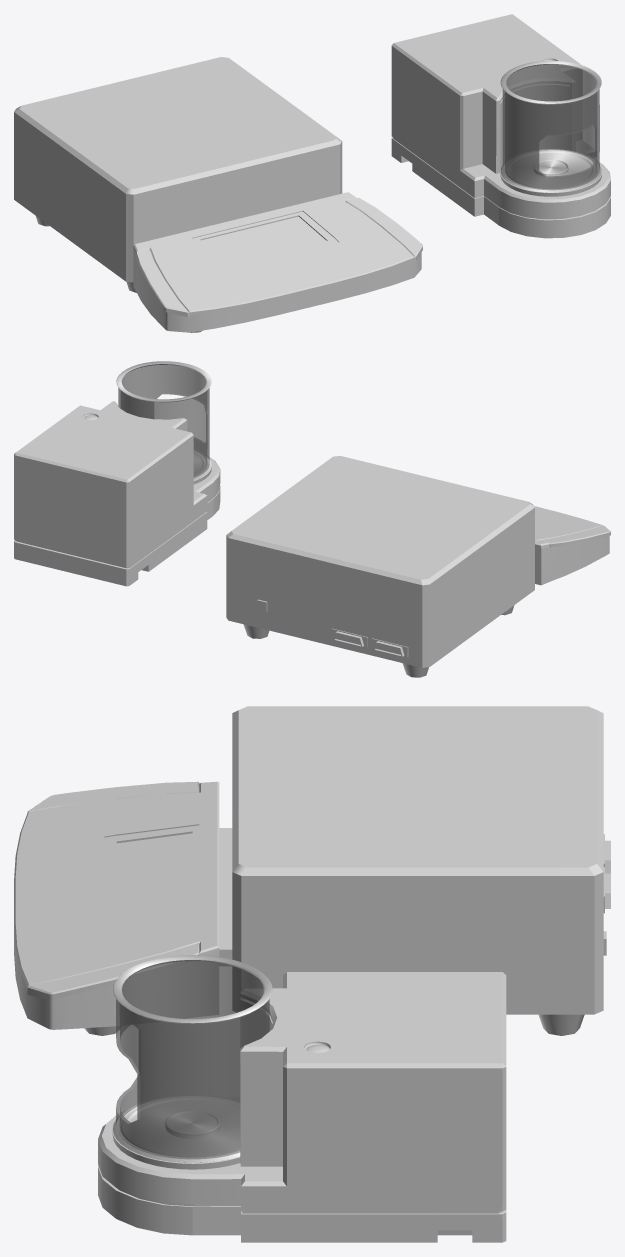
File: MicroBalance.fbx
3 views of the same model, one above another, from view 1: azimuth 30°, elevation 25°; view 2: azimuth 150°, elevation 25°; view 3: azimuth 270°, elevation 25° (orthographic). The views are drawn at different scales.
Visible parts, largest first — view 1: ReadOut_body, microBalance_Main, Draft_Shield, ShieldDisk, l_tare, r_tare, weighingMech, weigh_Pan; view 2: ReadOut_body, microBalance_Main, Draft_Shield, l_tare; view 3: ReadOut_body, microBalance_Main, Draft_Shield, ShieldDisk, r_tare, l_tare, weigh_Pan, weighingMech.
Part boxes in pixels (x1,y1,x2,y2): ReadOut_body: (14, 57, 421, 332); microBalance_Main: (391, 14, 610, 238); Draft_Shield: (500, 60, 601, 192); ShieldDisk: (506, 150, 596, 188); l_tare: (136, 249, 189, 317); r_tare: (345, 197, 422, 261); weighingMech: (500, 165, 602, 196); weigh_Pan: (534, 159, 568, 175); ReadOut_body: (226, 456, 609, 677); microBalance_Main: (14, 401, 220, 586); Draft_Shield: (116, 361, 211, 480); l_tare: (538, 525, 610, 547); ReadOut_body: (14, 706, 610, 1035); microBalance_Main: (98, 972, 506, 1242); Draft_Shield: (113, 955, 272, 1162); ShieldDisk: (121, 1096, 239, 1157); r_tare: (27, 943, 199, 1000); l_tare: (27, 781, 199, 812); weigh_Pan: (165, 1111, 220, 1135); weighingMech: (112, 1115, 240, 1169).
Size of the model in its own units: 0.3669 by 0.0935 by 0.2443.
Materials: 3 (1 with a texture image).
